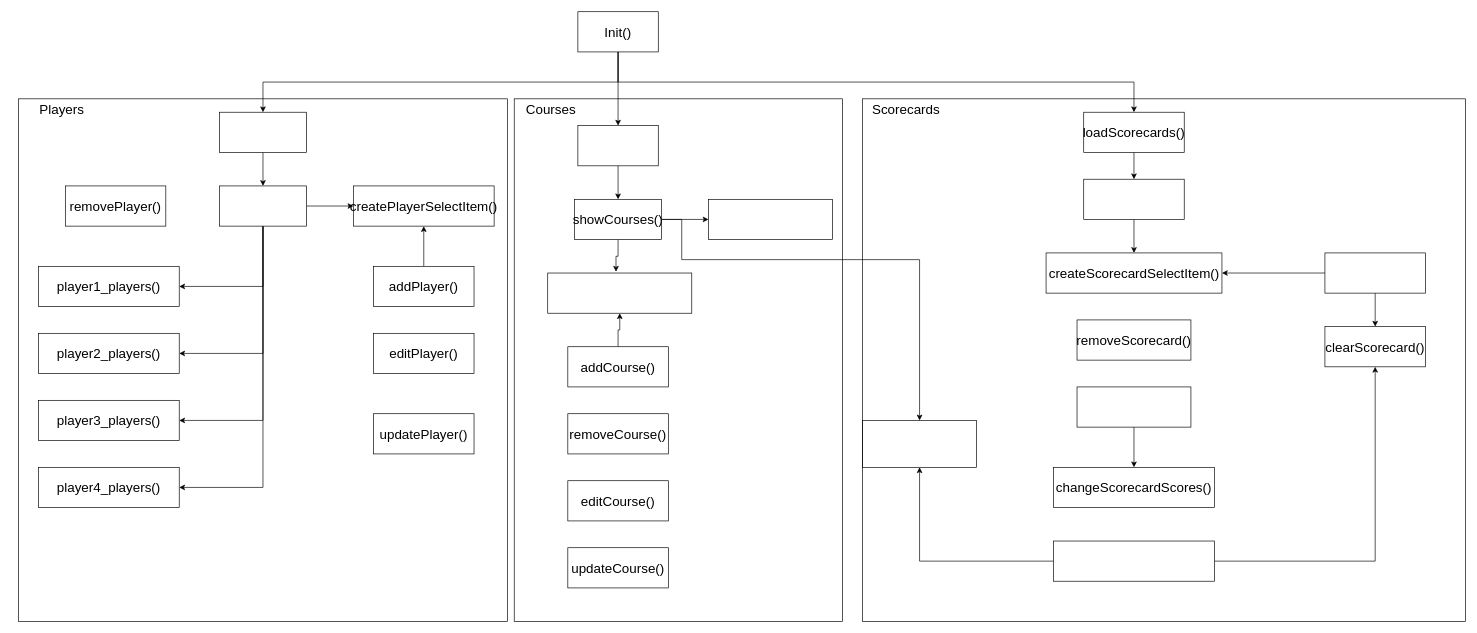
Some shapes in this 1477 by 633 pixel diagram are drawn without their labels. The centre of each missing label's shape, as x and y in pixels:
"addScorecard()" belongs at pixel 1374 272.
"changePar()" belongs at pixel 919 443.
"createCourseSelectItem()" belongs at pixel 619 292.
"editScorecard()" belongs at pixel 1133 406.
"loadCourses()" belongs at pixel 617 145.
"loadPlayers()" belongs at pixel 263 132.
"scorecardCourses()" belongs at pixel 770 219.
"showPlayers()" belongs at pixel 263 205.
"showScorecards()" belongs at pixel 1133 199.
"updateScorecard()" belongs at pixel 1133 560.
